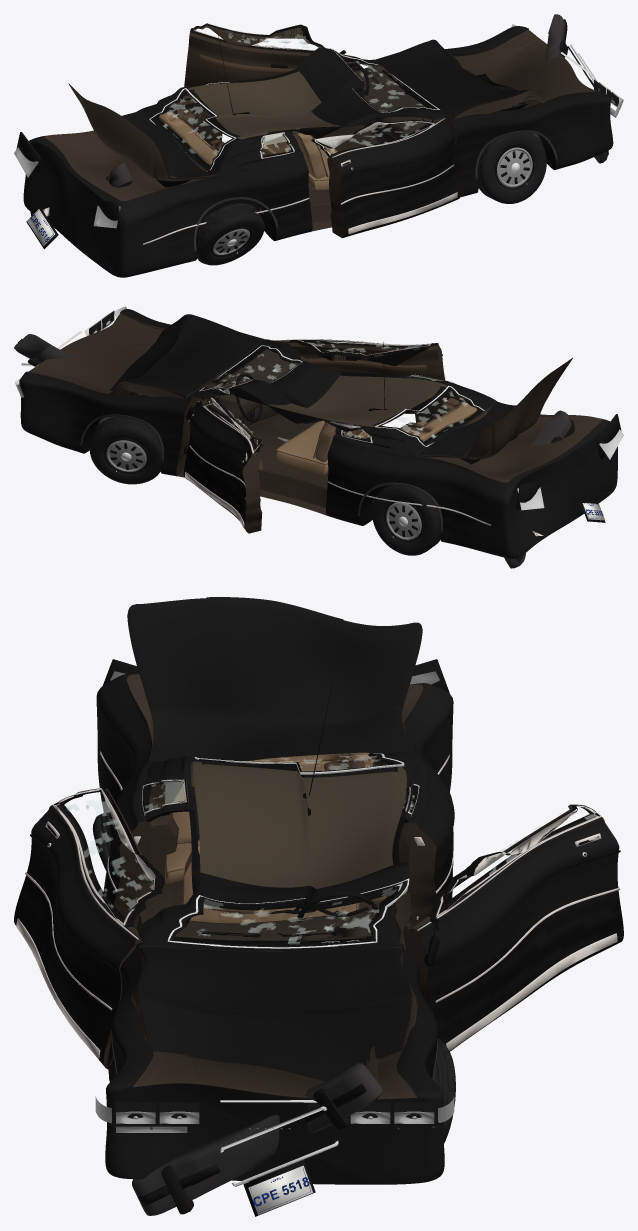
File: coupe84_roll_d2_lod1.glb
3 views of the same model, one above another, from view 1: azimuth 30°, elevation 25°; view 2: azimuth 150°, elevation 25°; view 3: azimuth 270°, elevation 25° (orthographic). The views are drawn at different scales.
Parts seen in each view (by area): view 1: Body, Door_FR, Hood, Interior, Door_FL, Trunk, Wheel_FR_mesh, Wheel_RR_mesh, Ends, Glass, Trim_FR, Trim (+5 smaller); view 2: Body, Hood, Door_FL, Interior, Trunk, Wheel_FL_mesh, Wheel_RL_mesh, Door_FR, Ends, Trim, Glass, Trim_FR (+4 smaller); view 3: Body, Trunk, Hood, Door_FL, Door_FR, Bumper_F, Ends, Interior, Trim_FL, Glass, Trim_FR, Trim (+2 smaller).
Part boxes in pixels (bbox=[...]): Body: bbox=[23, 26, 613, 277]; Door_FR: bbox=[311, 117, 460, 238]; Hood: bbox=[376, 39, 546, 118]; Interior: bbox=[159, 64, 434, 190]; Door_FL: bbox=[184, 23, 356, 86]; Trunk: bbox=[68, 83, 216, 181]; Wheel_FR_mesh: bbox=[477, 132, 546, 203]; Wheel_RR_mesh: bbox=[196, 203, 264, 265]; Ends: bbox=[14, 24, 623, 249]; Glass: bbox=[149, 48, 439, 171]; Trim_FR: bbox=[315, 118, 457, 234]; Trim: bbox=[143, 32, 557, 250]; Body: bbox=[20, 309, 617, 558]; Hood: bbox=[109, 314, 264, 398]; Door_FL: bbox=[183, 397, 263, 533]; Interior: bbox=[202, 349, 476, 474]; Trunk: bbox=[416, 358, 572, 459]; Wheel_FL_mesh: bbox=[89, 416, 161, 484]; Wheel_RL_mesh: bbox=[372, 485, 440, 555]; Door_FR: bbox=[277, 339, 444, 413]; Ends: bbox=[14, 306, 623, 522]; Trim: bbox=[80, 342, 491, 532]; Glass: bbox=[199, 345, 484, 446]; Trim_FR: bbox=[275, 339, 445, 378]; Body: bbox=[96, 673, 453, 1184]; Trunk: bbox=[127, 597, 422, 761]; Hood: bbox=[131, 946, 417, 1081]; Door_FL: bbox=[403, 804, 623, 1051]; Door_FR: bbox=[14, 787, 164, 1069]; Bumper_F: bbox=[132, 1063, 382, 1215]; Ends: bbox=[95, 659, 454, 1216]; Interior: bbox=[165, 752, 386, 942]; Trim_FL: bbox=[416, 805, 620, 1050]; Glass: bbox=[145, 753, 415, 948]; Trim_FR: bbox=[16, 787, 155, 1058]; Trim: bbox=[100, 661, 454, 1080].
Size of the model in its own units: 5.53 by 1.7 by 3.07.
Materials: 30 (5 with a texture image).
